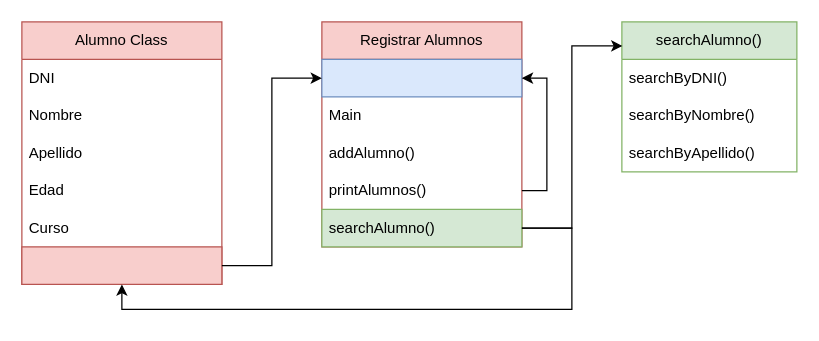
The diagram is 819 pixels wide and 341 high, and some of its shapes have lost their labels. Each missing label, with the centre of its shape:
RegistroAlumnos.txt: the point at 421,77
toString(): the point at 121,265
